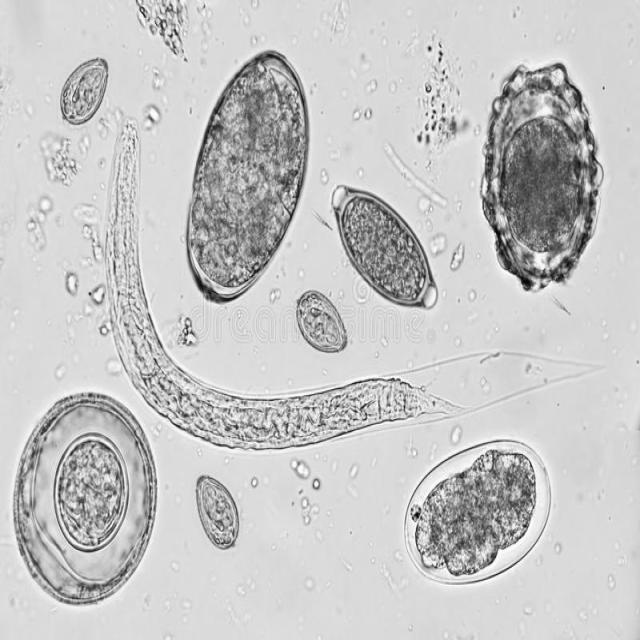Ancylostoma Spp: (392, 437, 566, 593)
Ascaris Lumbricoides: (466, 37, 620, 306)
Fasciola Hepatica: (177, 32, 316, 319)
Hymenolepis: (5, 381, 166, 611)
Trichuris Trichiura: (315, 167, 451, 333)
